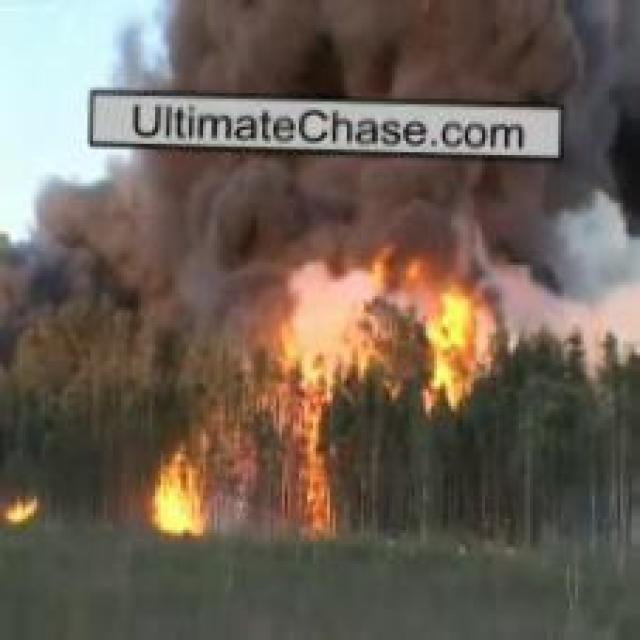fire: (152, 247, 502, 552), (2, 467, 38, 542)
smoke: (90, 4, 608, 240)
